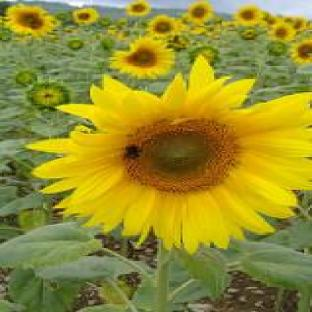sunflower: (27, 52, 312, 255)
